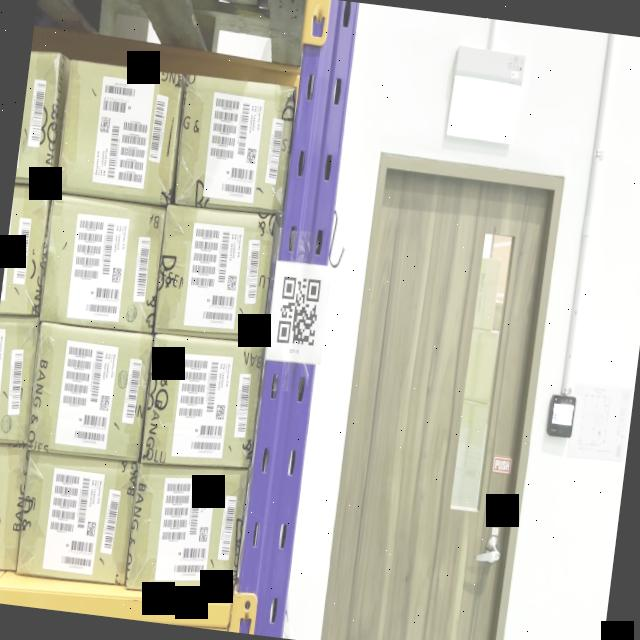box: (56, 62, 182, 199), (39, 198, 165, 330), (172, 76, 295, 210), (143, 337, 262, 468), (156, 207, 276, 334), (28, 328, 150, 452), (129, 464, 245, 594), (13, 456, 132, 580)
